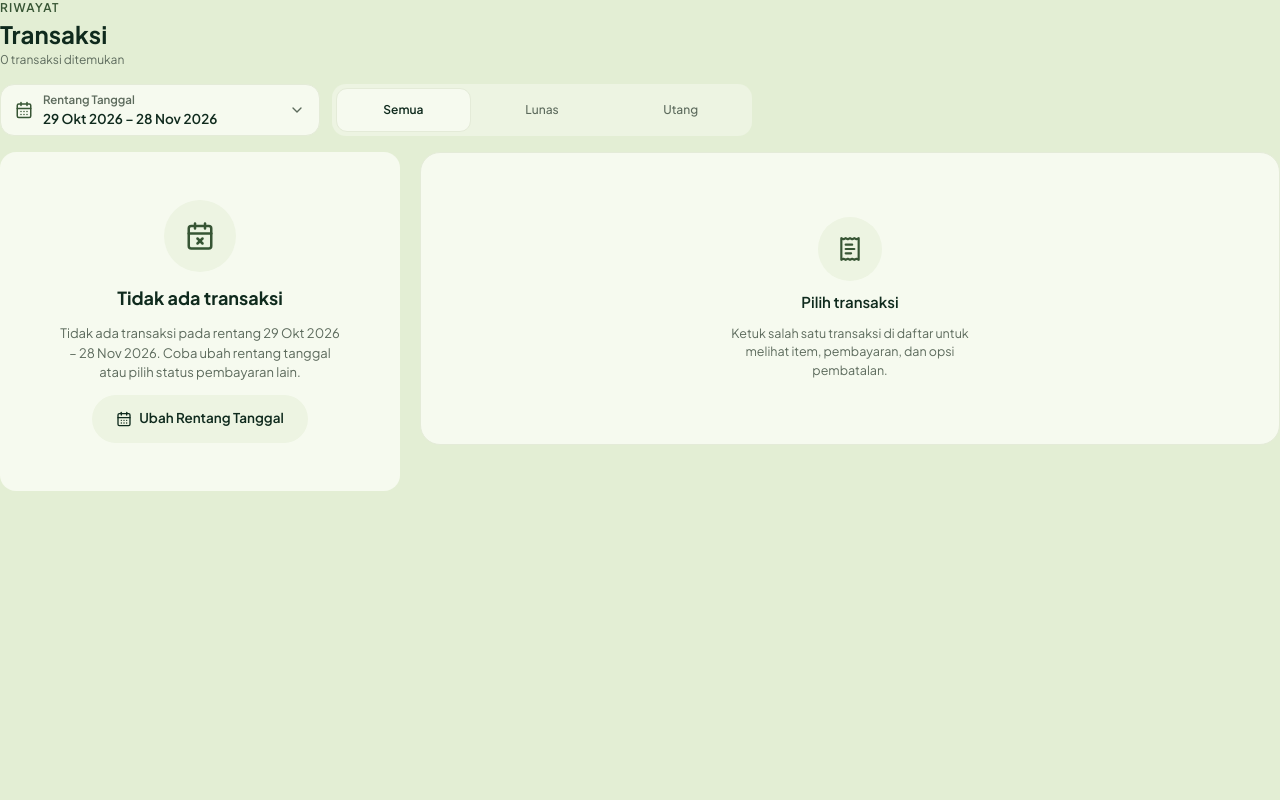
it: Riwayat Transaksi › rentang tanggal berfungsi: ubah rentang mengirim query baru + empty state pakai rentang aktif
Click the button with aria-label "Ubah rentang tanggal" at (160,110), box [0,84,320,136]
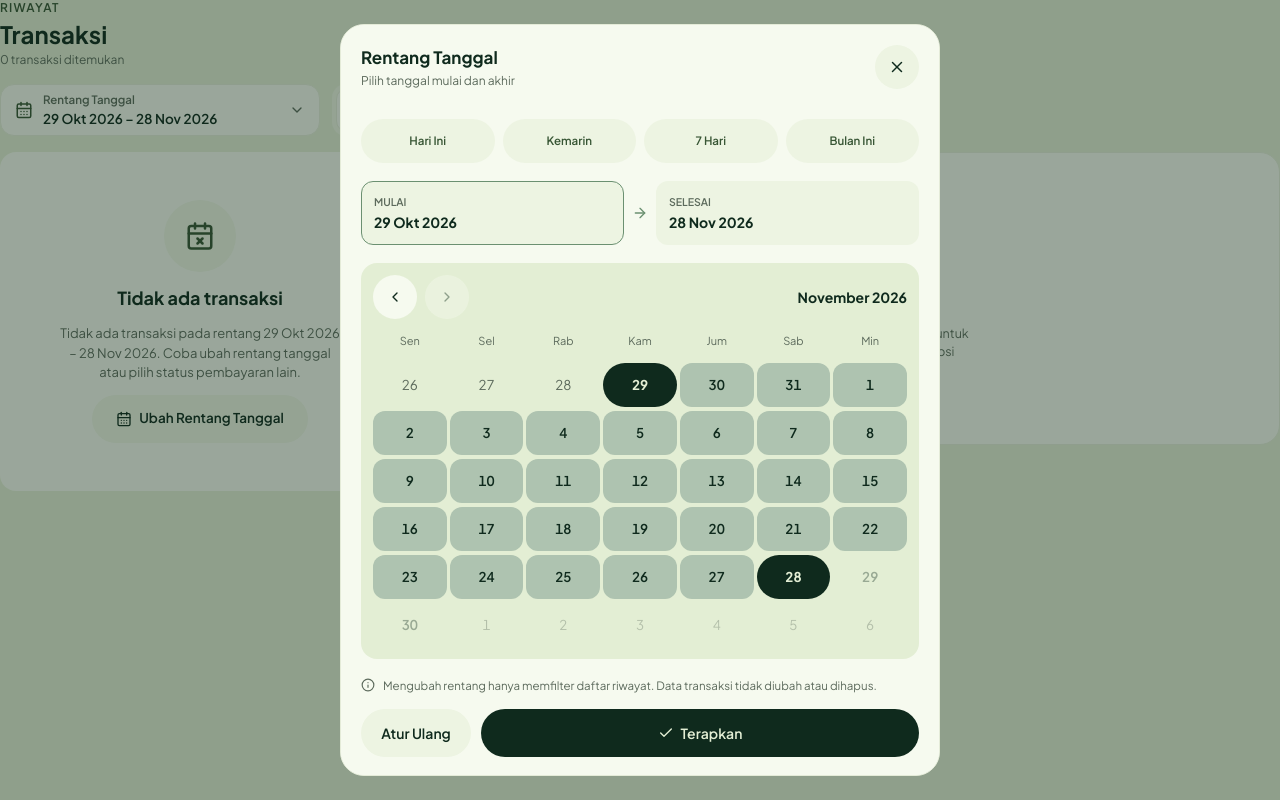
Type "2026-10-01" into the date field named "Tanggal mulai" at (390,202), box [361,181,624,245]
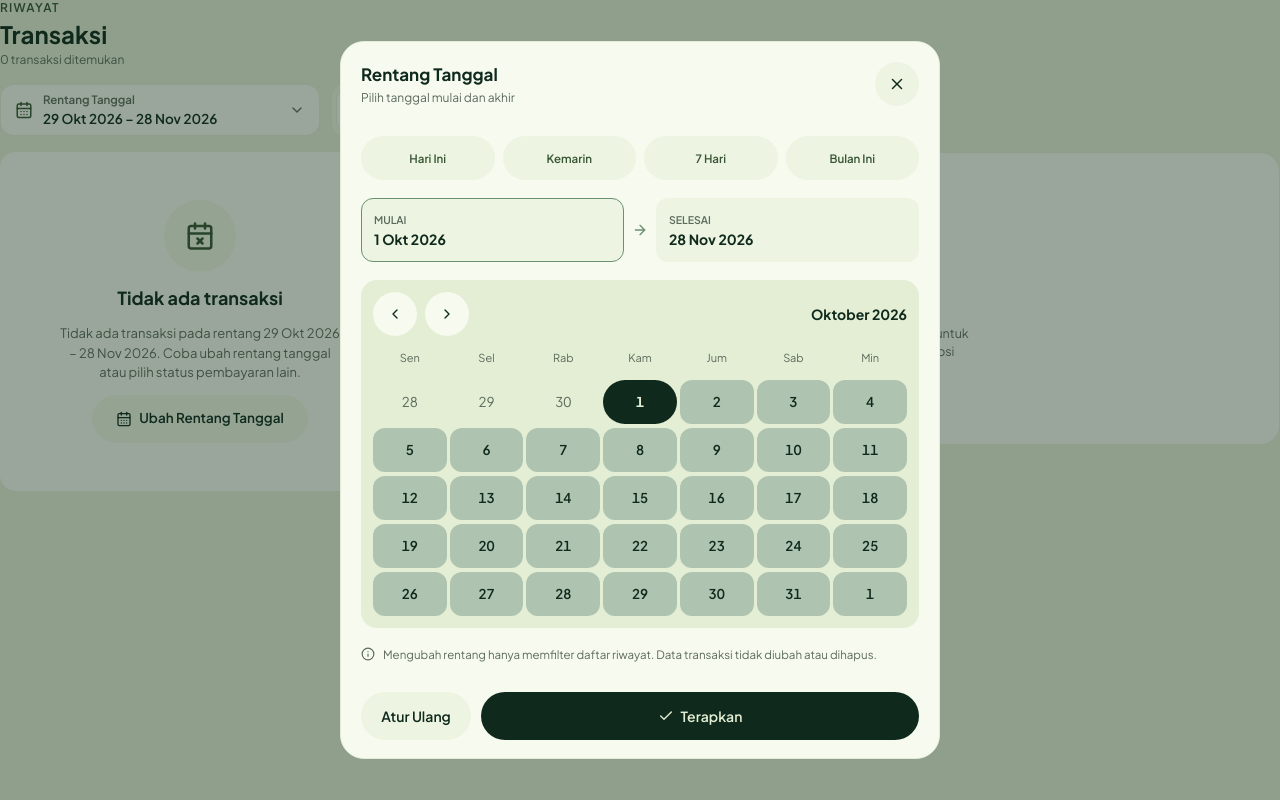
Type "2026-10-31" into the date field named "Tanggal akhir" at (690,219), box [656,198,919,262]
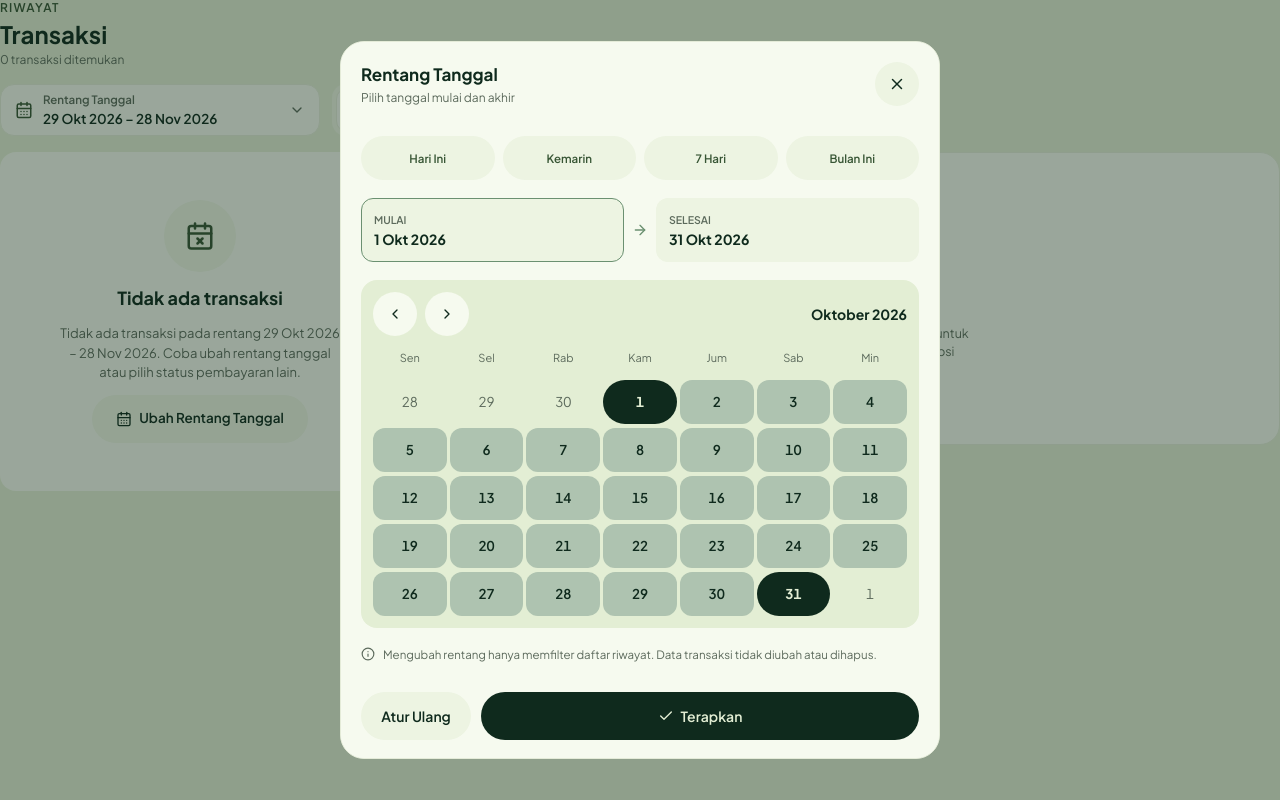
Click the button "Terapkan" at (700,716), box [481,692,919,740]
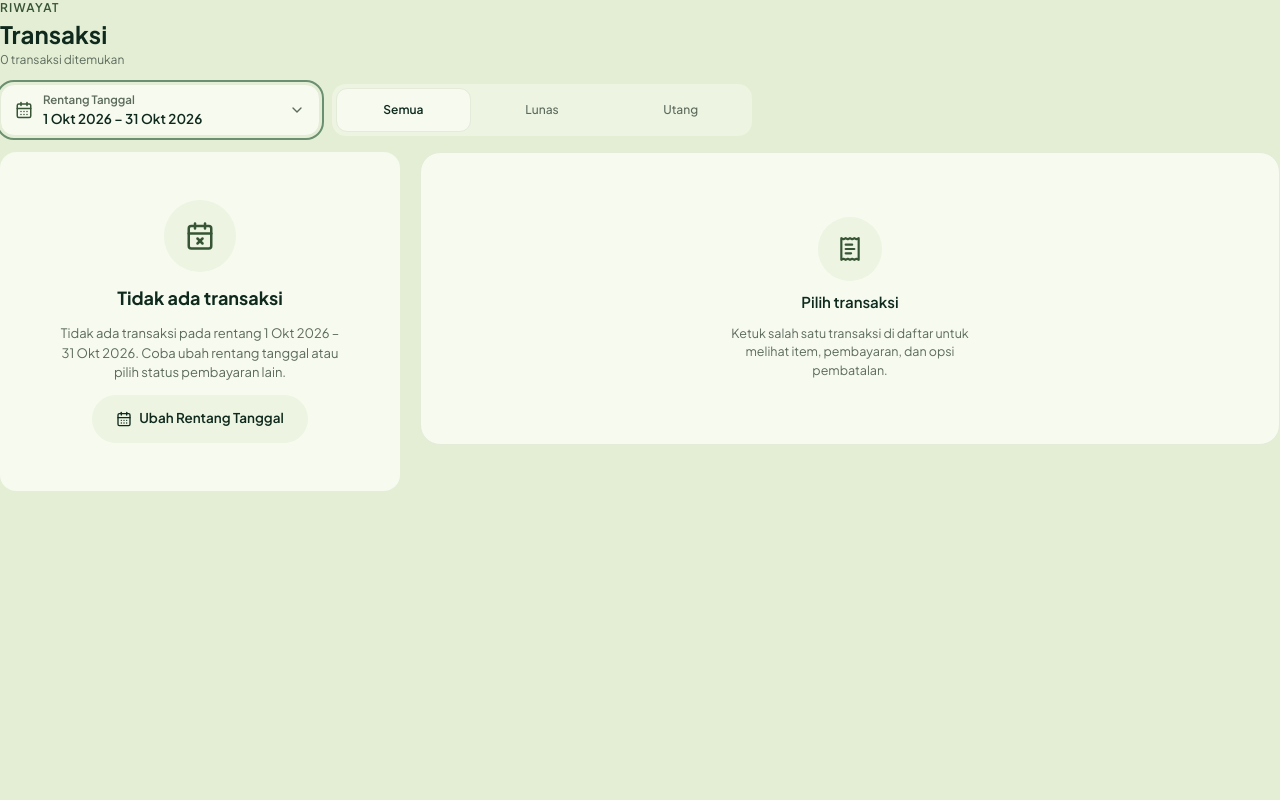
Check: the text "Tidak ada transaksi pada rentang 1 Okt 2026 – 31 Okt 2026" is shown, box [60,324,340,382]
